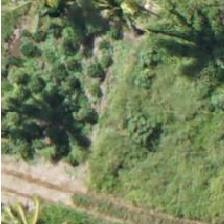coconut_tree: (0, 65, 55, 155)
